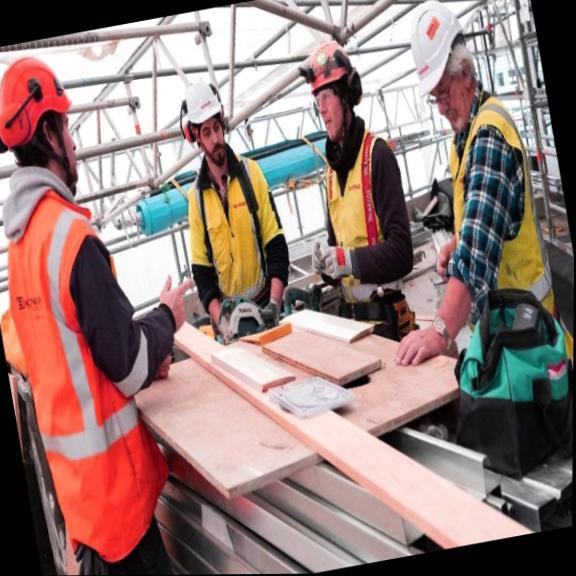safety_vest: (0, 173, 175, 551), (424, 91, 575, 370), (176, 141, 295, 312), (303, 129, 407, 298)
